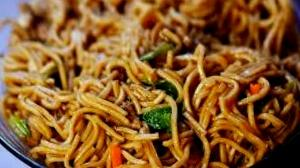pancit bihon: (10, 0, 299, 167)
